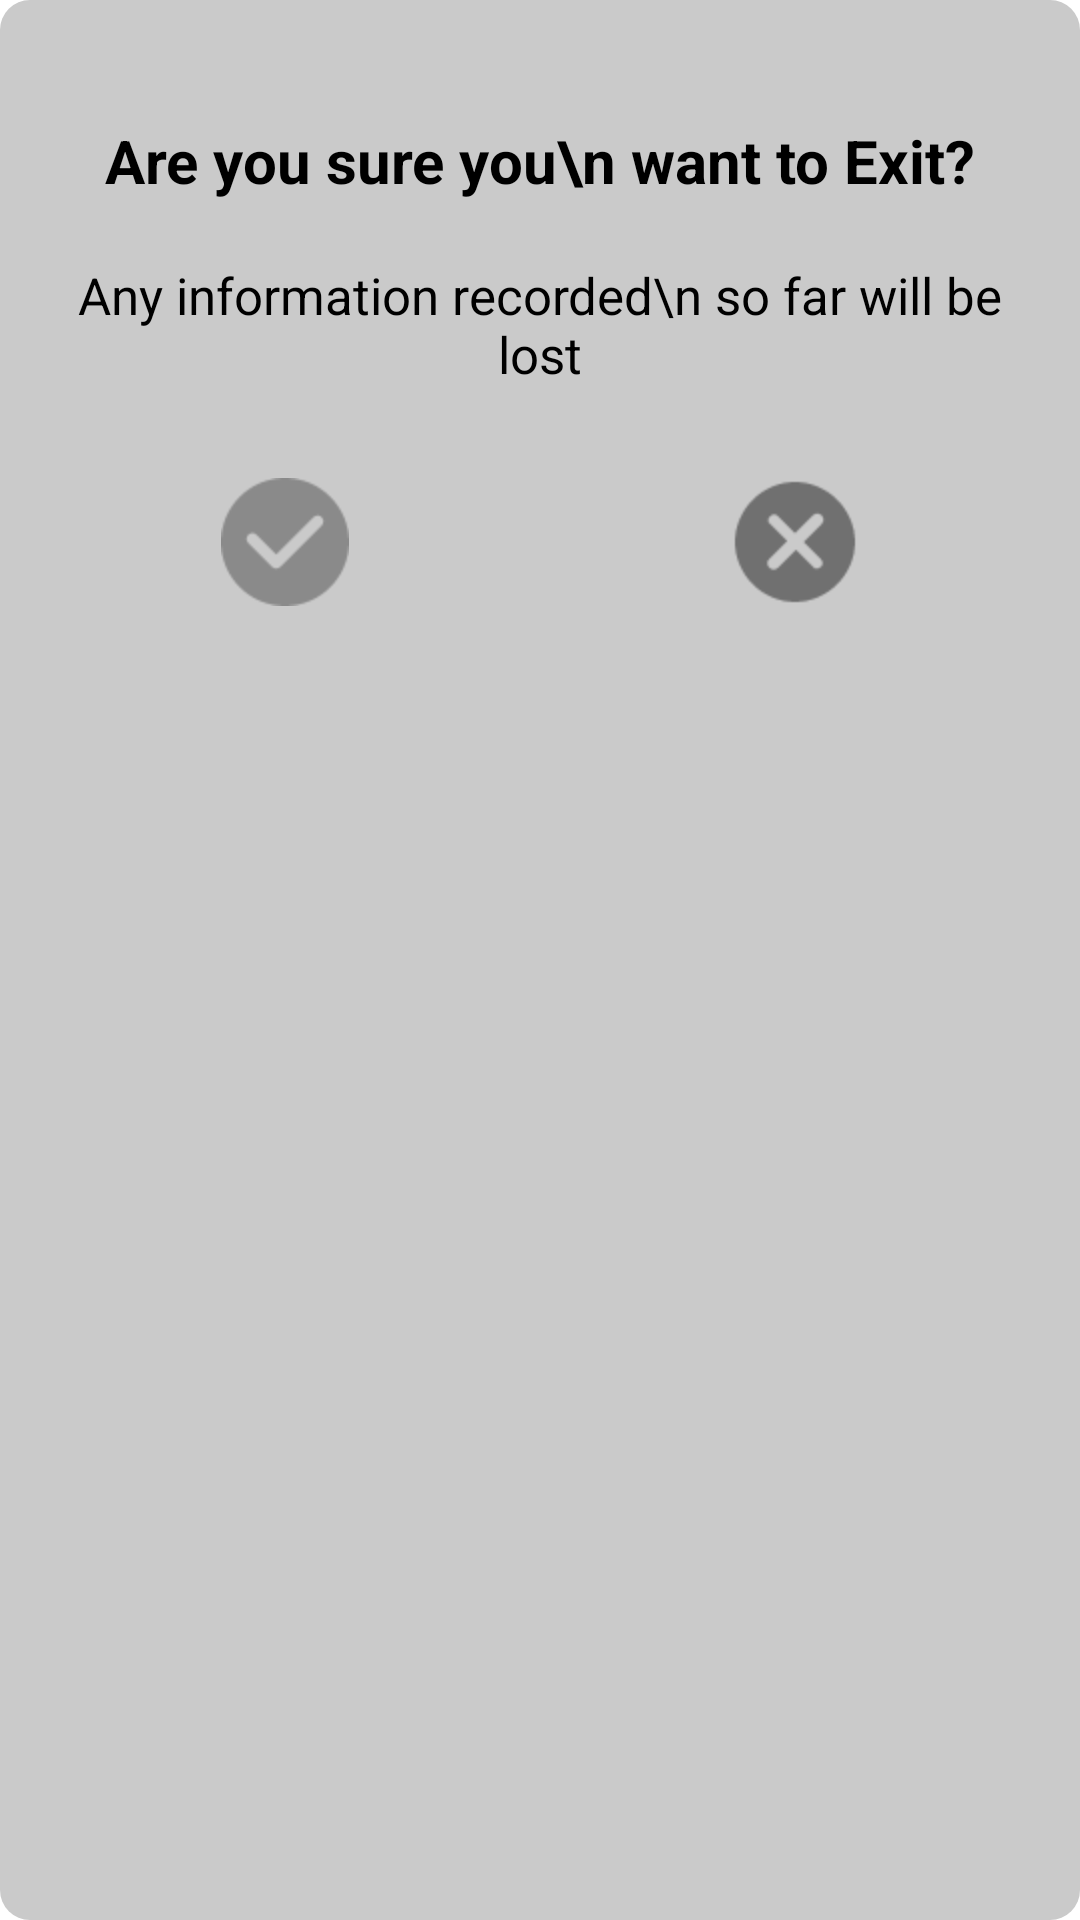

Locate icon controls on the screen. Image size 1080*1920, boxes as (x1,y1,x2,y2).
cha: (735,482,855,602)
gou: (221,478,349,606)
